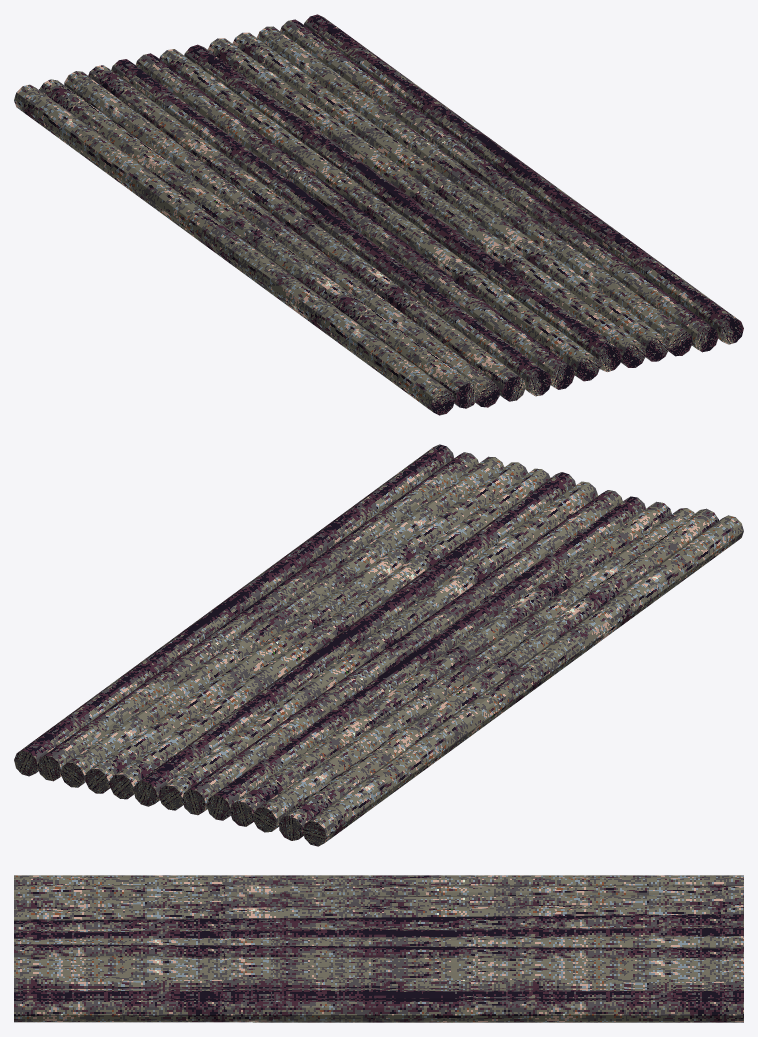
The model's file is floor.gltf.
3 renders of one model, top to bottom at view 1: azimuth 30°, elevation 25°; view 2: azimuth 150°, elevation 25°; view 3: azimuth 270°, elevation 25°, orthographic. The views are drawn at different scales.
Parts seen in each view (by area): view 1: wall.002; view 2: wall.002; view 3: wall.002.
Part boxes in pixels (bbox=[...]): wall.002: bbox=[14, 14, 743, 415]; wall.002: bbox=[14, 444, 743, 846]; wall.002: bbox=[14, 875, 743, 1022].
Bounding box in the file's own units: 3 × 0.2902 × 6.93.
1 material, 1 textured.
